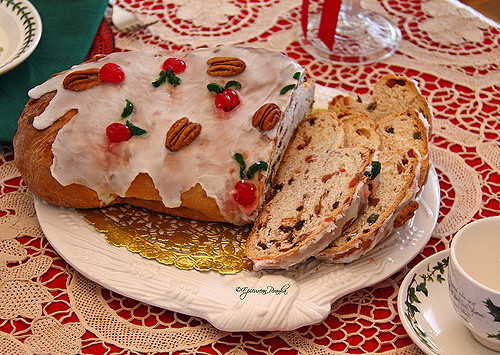slice of bread: (338, 77, 436, 263), (276, 107, 369, 264)
